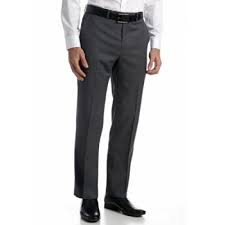F_belt: (78, 1, 156, 30)
F_dress pants: (72, 19, 160, 205)
